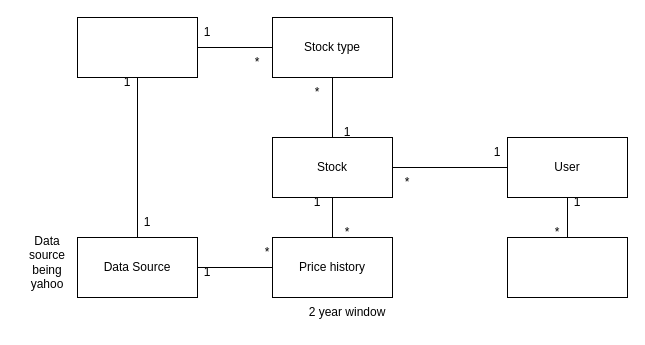
Some shapes in this 645 by 345 pixel diagram are drawn without their labels. Each missing label, with the centre of its shape:
"Chart Service" belongs at (567,267).
"Share Price" belongs at (137,47).
